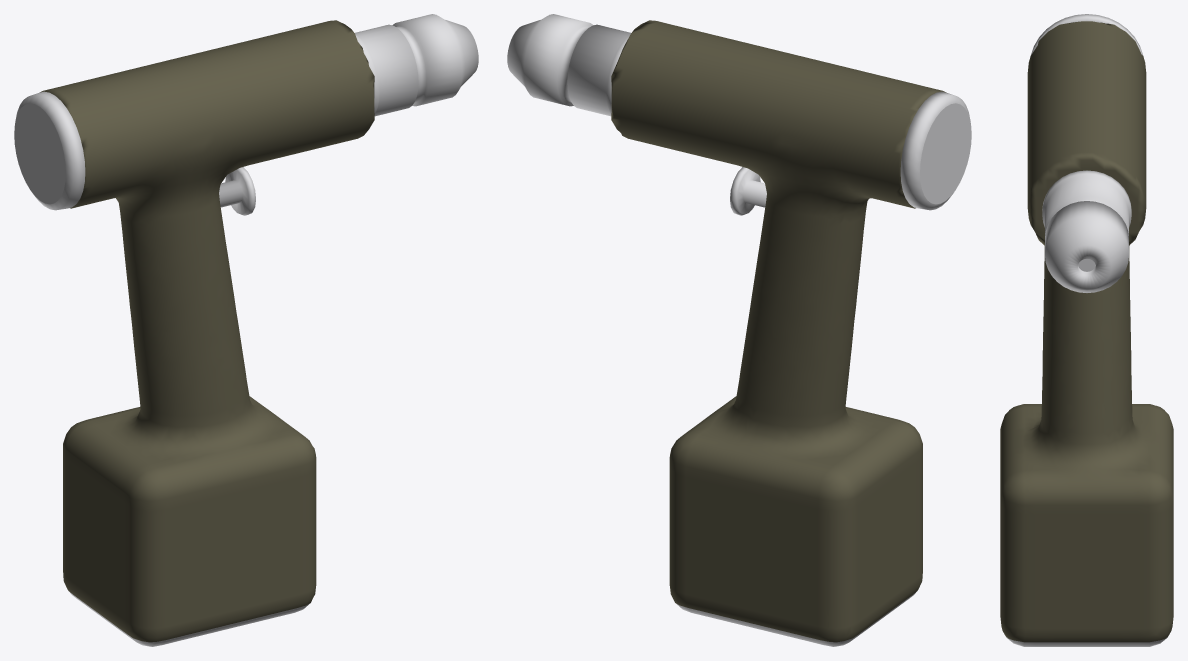
Rendered from drill-high-speed.lod1.glb.
3 renders of one model, left to right at view 1: azimuth 30°, elevation 25°; view 2: azimuth 150°, elevation 25°; view 3: azimuth 270°, elevation 25°, orthographic. The views are drawn at different scales.
Visible parts, largest first — view 1: body, nose, rear, trigger; view 2: body, nose, rear, trigger; view 3: body, nose, rear.
Part boxes in pixels (x1=…): body: x1=40, y1=20, x2=374, y2=646; nose: x1=355, y1=14, x2=478, y2=116; rear: x1=14, y1=91, x2=85, y2=210; trigger: x1=219, y1=167, x2=255, y2=215; body: x1=611, y1=20, x2=945, y2=646; nose: x1=507, y1=14, x2=630, y2=116; rear: x1=900, y1=91, x2=971, y2=210; trigger: x1=730, y1=167, x2=766, y2=215; body: x1=1000, y1=21, x2=1173, y2=646; nose: x1=1042, y1=170, x2=1131, y2=292; rear: x1=1031, y1=14, x2=1143, y2=55.
Size of the model in its own units: 0.1664 by 0.2022 by 0.06.
